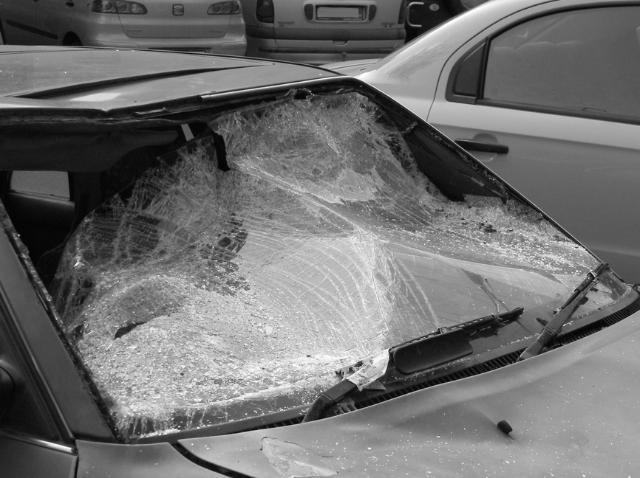Windshield: (0, 87, 640, 412)
